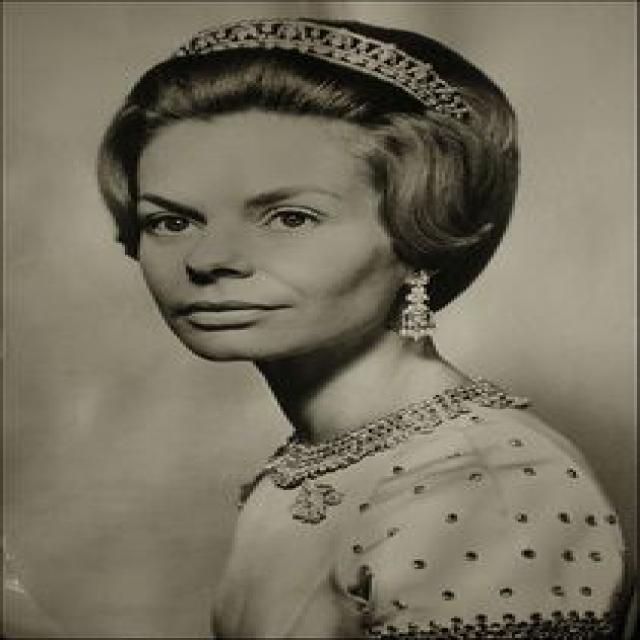Earring: (395, 272, 452, 356)
